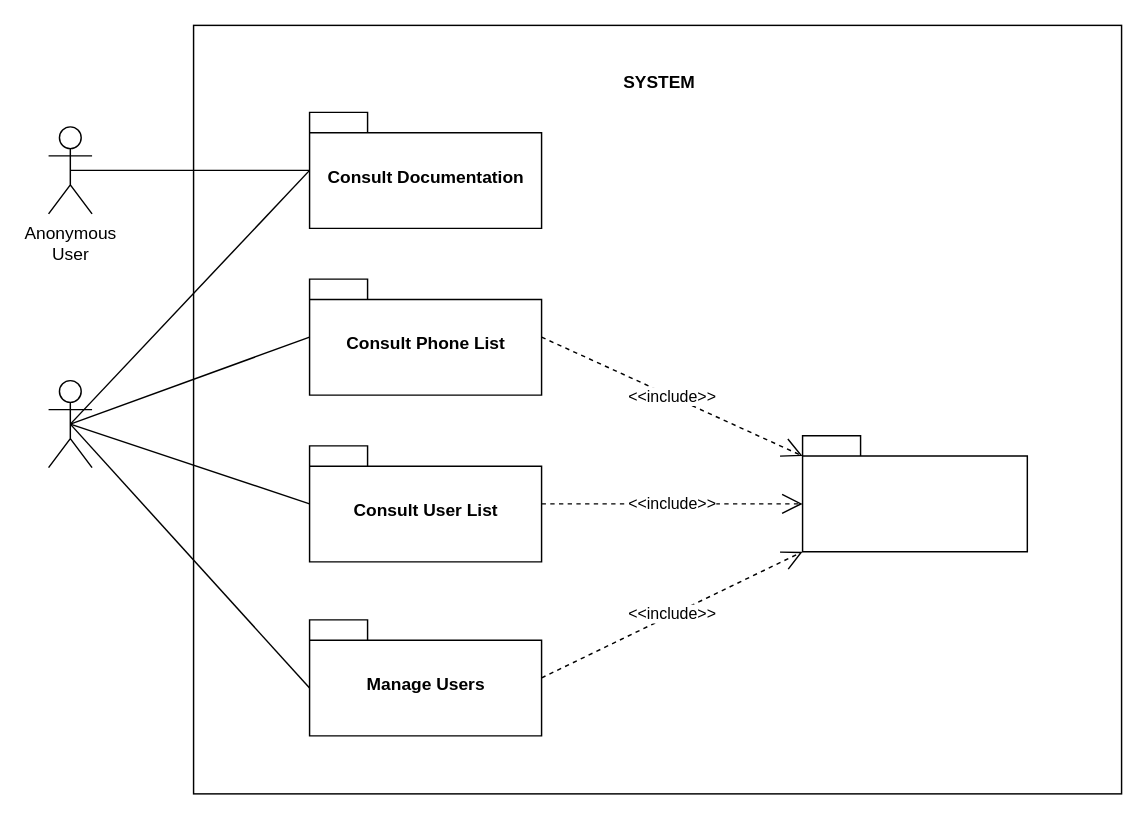
Some shapes in this 1147 by 819 pixel diagram are drawn without their labels. The centre of each missing label's shape, as x and y in pixels:
Authentification with JSON Web Token: (x=914, y=493)
Customer Registred: (x=69, y=423)
